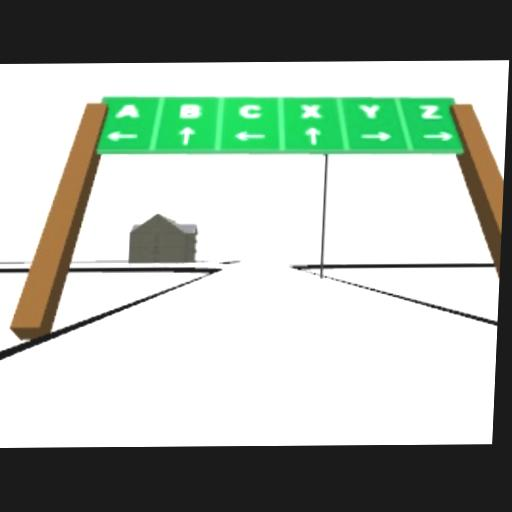A: (115, 101, 139, 117)
B: (179, 103, 201, 118)
C: (238, 103, 262, 119)
Left: (104, 130, 138, 142), (233, 130, 265, 140)
Right: (359, 131, 393, 141), (423, 131, 453, 141)
Straight: (303, 127, 320, 145), (178, 127, 194, 145)
X: (300, 104, 322, 117)
Y: (358, 104, 380, 119)
Z: (418, 103, 442, 118)
